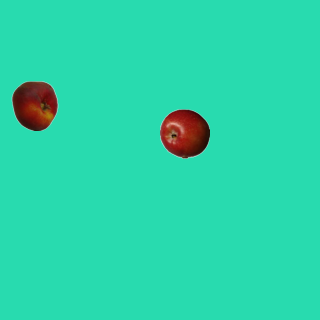Apple Braeburn: (159, 108, 209, 158)
Nectarine Flat: (9, 80, 59, 130)
